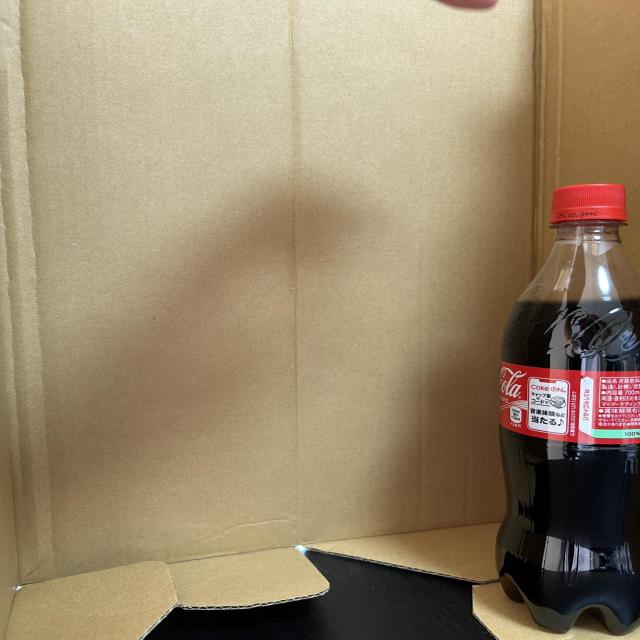high: (495, 184, 640, 634)
